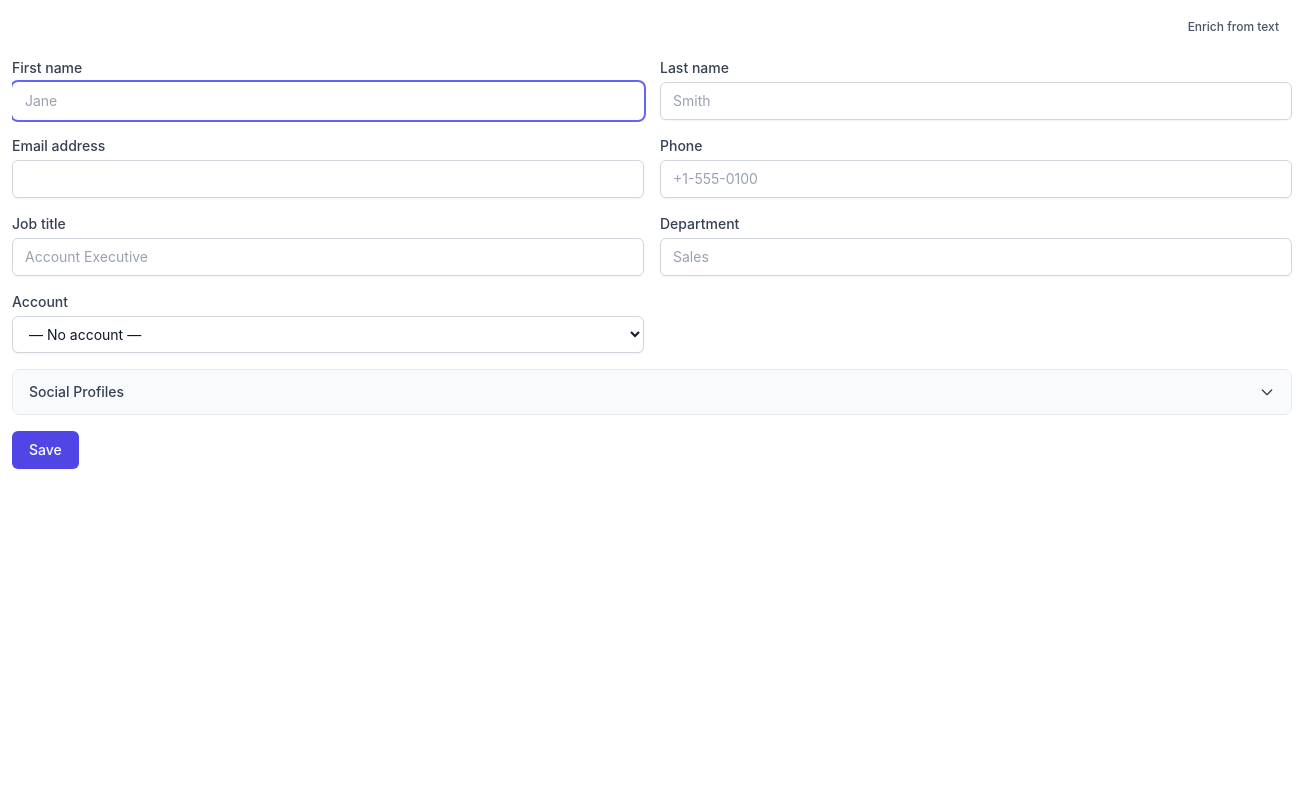
Test case: ContactForm › social URL auto-prepend › toggles the social section open and closed
The width and height of the screenshot is (1304, 812).
Note:  Open it
Click the button with test id "contact-social-toggle" at (77, 392), box top-left (13, 370), bottom-right (1291, 414)
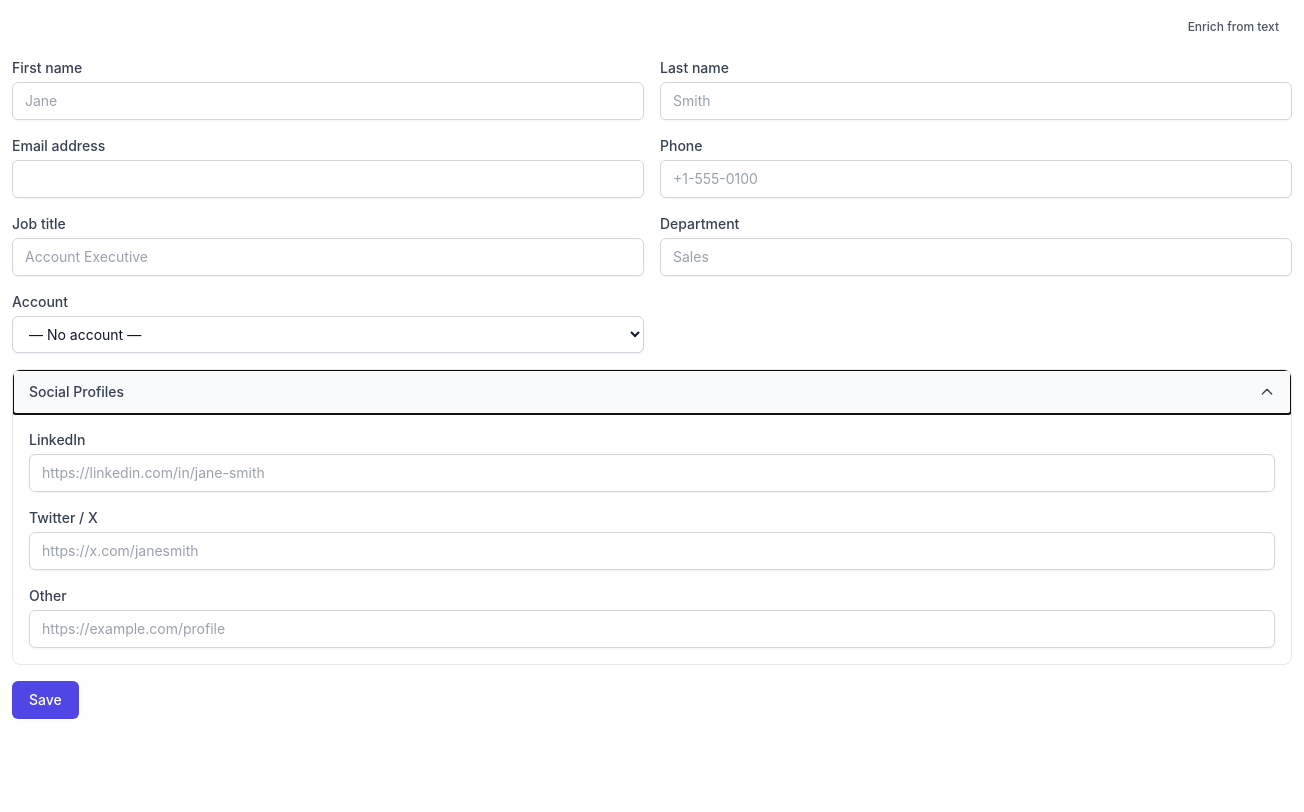
Result: the field with test id "contact-linkedin-url" is shown at top-left (29, 454), bottom-right (1275, 492)
Note: Close it again
Click the button with test id "contact-social-toggle" at (77, 392), box top-left (13, 370), bottom-right (1291, 414)
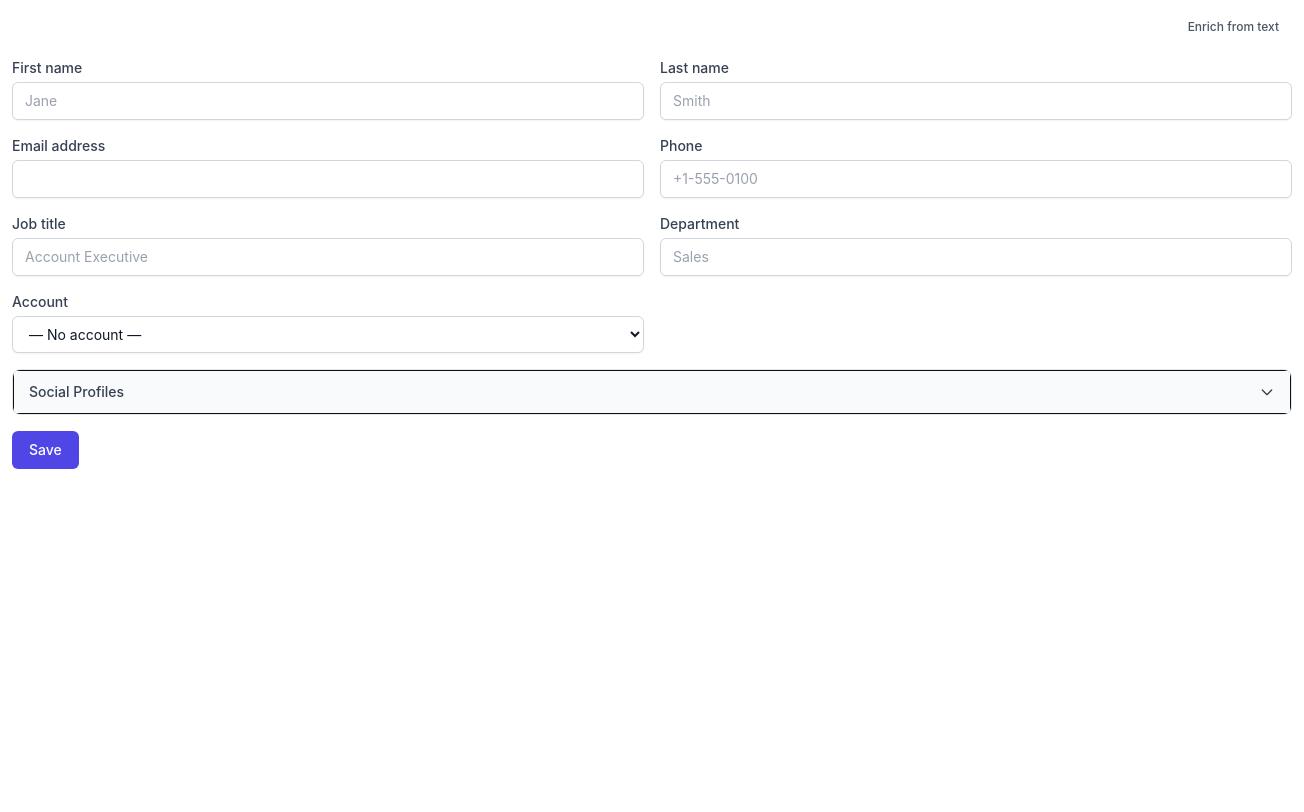
Result: the label with test id "contact-linkedin-url" is gone
